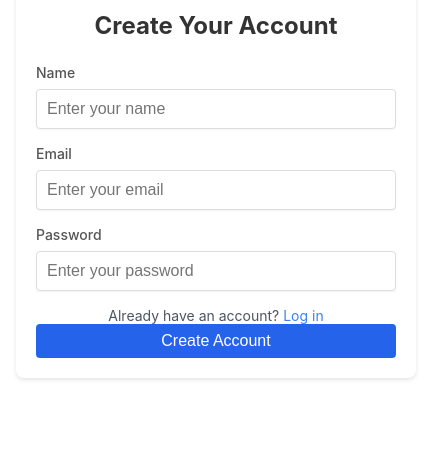
Scenario: SignupForm Component › handles submission errors gracefully
Note: Fill in form with valid data
Type "Test User" into the field labelled "Name". click: (216, 109)
box: [36,89,396,129]
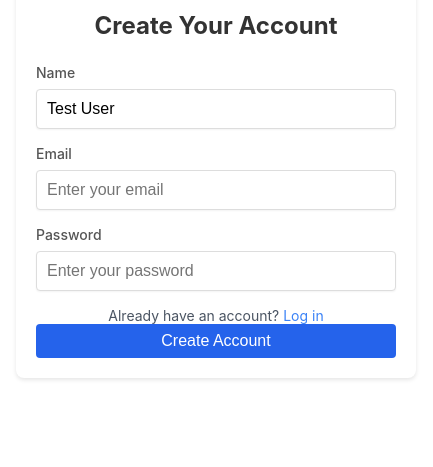
Type "existing@example.com" into the field labelled "Email". click: (216, 190)
box: [36,170,396,210]
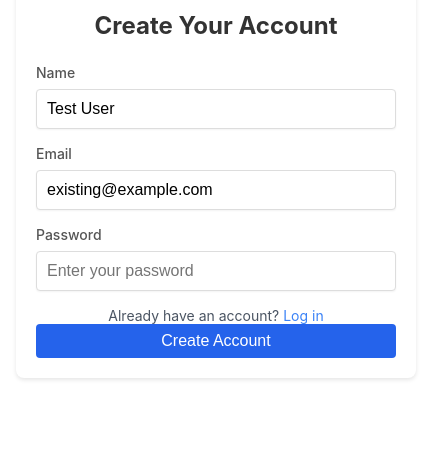
Type "password123" into the password field labelled "Password". click: (216, 271)
box: [36,251,396,291]
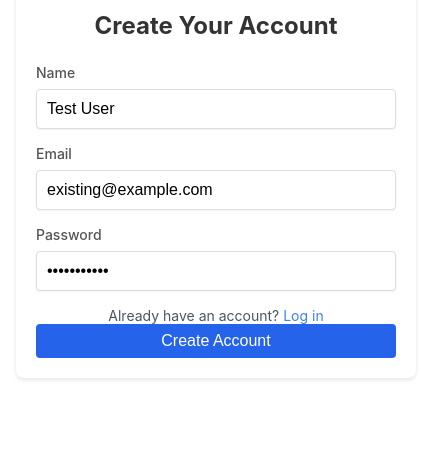
Note: Submit form
Click the button "Create Account". click: (216, 341)
box: [36,324,396,358]
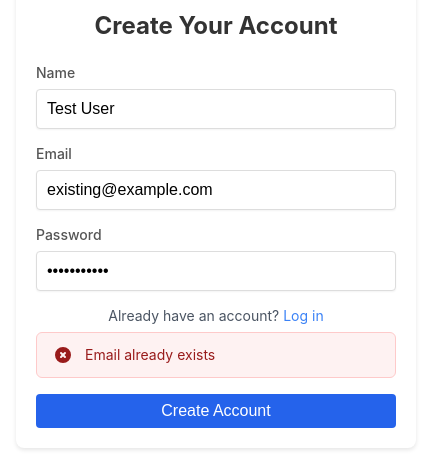
Check: the text "Email already exists" is shown, box [85,345,215,365]
